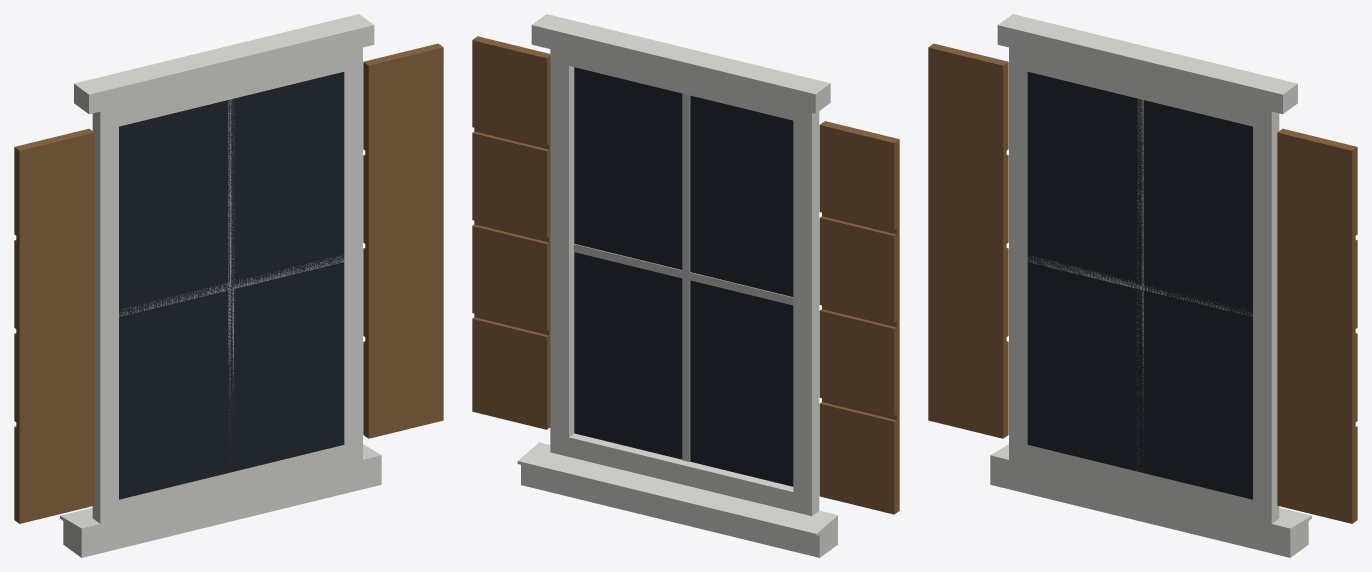
The model's file is window_large.obj.
The picture shows the model from 3 angles, left to right: view 1: azimuth 30°, elevation 25°; view 2: azimuth 150°, elevation 25°; view 3: azimuth 330°, elevation 25°; orthographic projection.
Visible parts, largest first — view 1: window_large; view 2: window_large; view 3: window_large.
Boxes of the visible parts, bbox=[...] form: window_large: bbox=[14, 14, 443, 557]; window_large: bbox=[472, 14, 899, 557]; window_large: bbox=[928, 14, 1357, 557].
Bounding box in the file's own units: 2.26 × 2.35 × 0.2.
